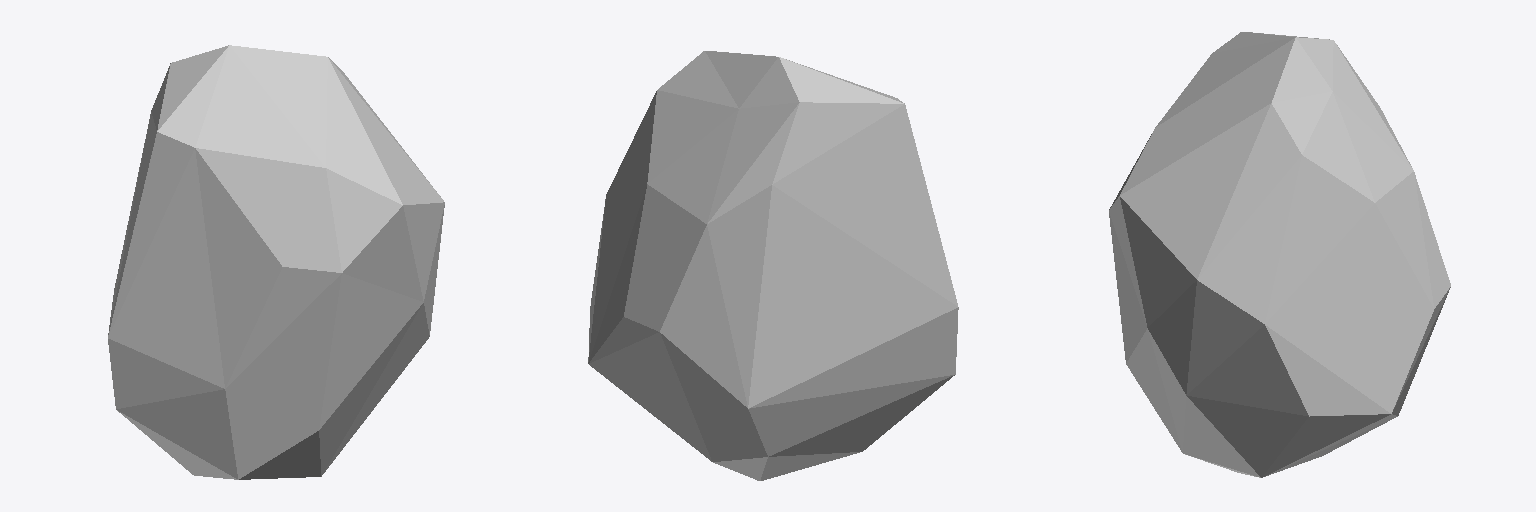
Rendered from rock2.obj.
3 views of the same model, side by side, from view 1: azimuth 30°, elevation 25°; view 2: azimuth 150°, elevation 25°; view 3: azimuth 270°, elevation 25° (orthographic).
Parts seen in each view (by area): view 1: Stone_3_Sphere.002; view 2: Stone_3_Sphere.002; view 3: Stone_3_Sphere.002.
Boxes of the visible parts, x1=… form: Stone_3_Sphere.002: x1=108, y1=45, x2=444, y2=479; Stone_3_Sphere.002: x1=588, y1=51, x2=958, y2=480; Stone_3_Sphere.002: x1=1109, y1=32, x2=1450, y2=477.
Size of the model in its own units: 3.17 by 3.75 by 2.78.